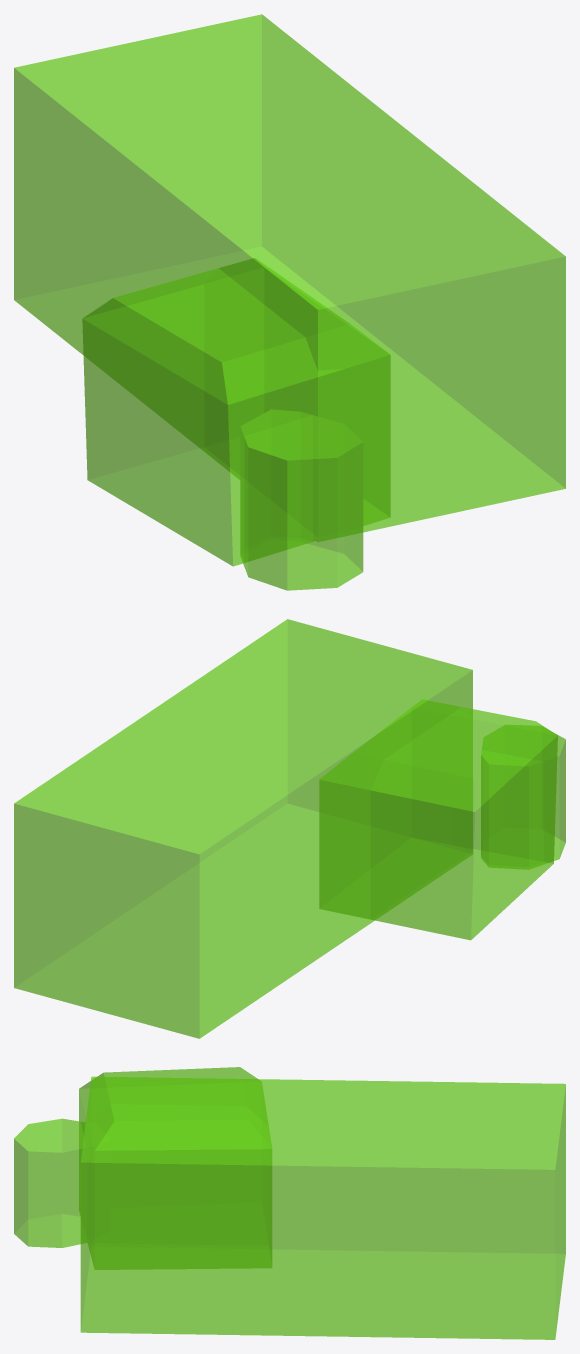
File: SM_Obstacle_02_Collision.fbx
The picture shows the model from 3 angles, top to bottom: view 1: azimuth 30°, elevation 25°; view 2: azimuth 150°, elevation 25°; view 3: azimuth 270°, elevation 25°; orthographic projection. The views are drawn at different scales.
Visible parts, largest first — view 1: Obstacle_02_Collision; view 2: Obstacle_02_Collision; view 3: Obstacle_02_Collision.
Boxes of the visible parts, x1=… form: Obstacle_02_Collision: x1=14, y1=14, x2=565, y2=590; Obstacle_02_Collision: x1=14, y1=619, x2=565, y2=1038; Obstacle_02_Collision: x1=14, y1=1067, x2=565, y2=1339.
Size of the model in its own units: 367 by 214 by 630.
